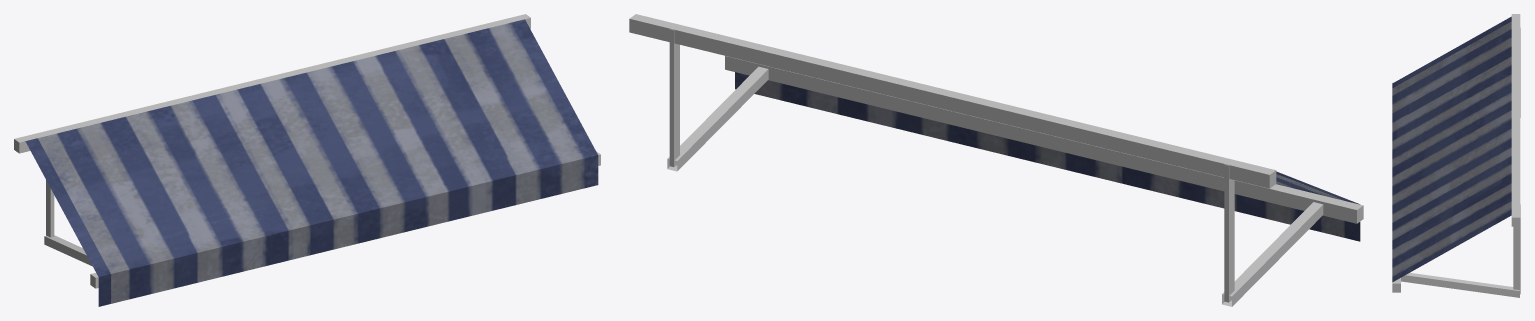
File: jiedao_BJ_002.fbx
The picture shows the model from 3 angles, left to right: view 1: azimuth 30°, elevation 25°; view 2: azimuth 150°, elevation 25°; view 3: azimuth 270°, elevation 25°; orthographic projection. The views are drawn at different scales.
Visible parts, largest first — view 1: jiedao_BJ_002; view 2: jiedao_BJ_002; view 3: jiedao_BJ_002.
Part boxes in pixels (bbox=[...]): jiedao_BJ_002: bbox=[14, 14, 600, 306]; jiedao_BJ_002: bbox=[629, 14, 1363, 306]; jiedao_BJ_002: bbox=[1392, 14, 1520, 297].
Size of the model in its own units: 249 by 66.27 by 52.49.
